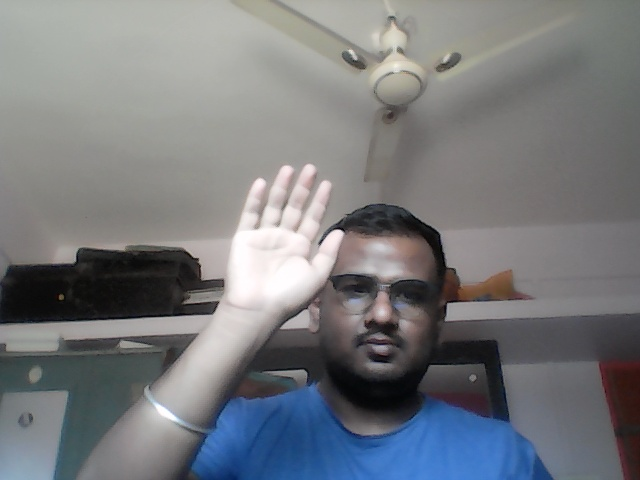Hello: (219, 160, 348, 324)
